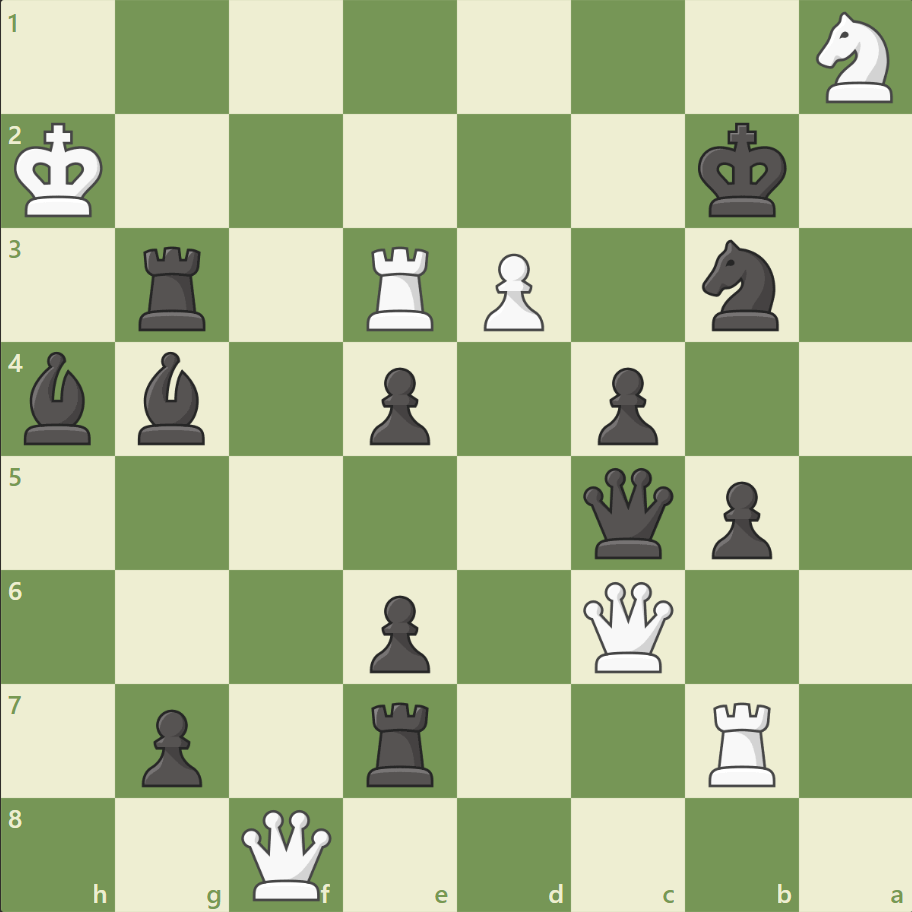K: (11, 117, 111, 225)
N: (806, 7, 903, 110)
P: (474, 246, 549, 337)
Q: (578, 576, 677, 676), (237, 804, 336, 903)
R: (700, 693, 783, 790), (360, 239, 442, 336)
b: (131, 347, 215, 449), (17, 347, 101, 449)
k: (692, 117, 792, 225)
n: (692, 234, 789, 337)
p: (133, 700, 208, 791), (701, 473, 776, 564), (361, 586, 435, 677), (588, 359, 662, 450), (361, 359, 435, 450)
q: (578, 463, 677, 562)
r: (360, 693, 442, 790), (133, 239, 215, 336)
